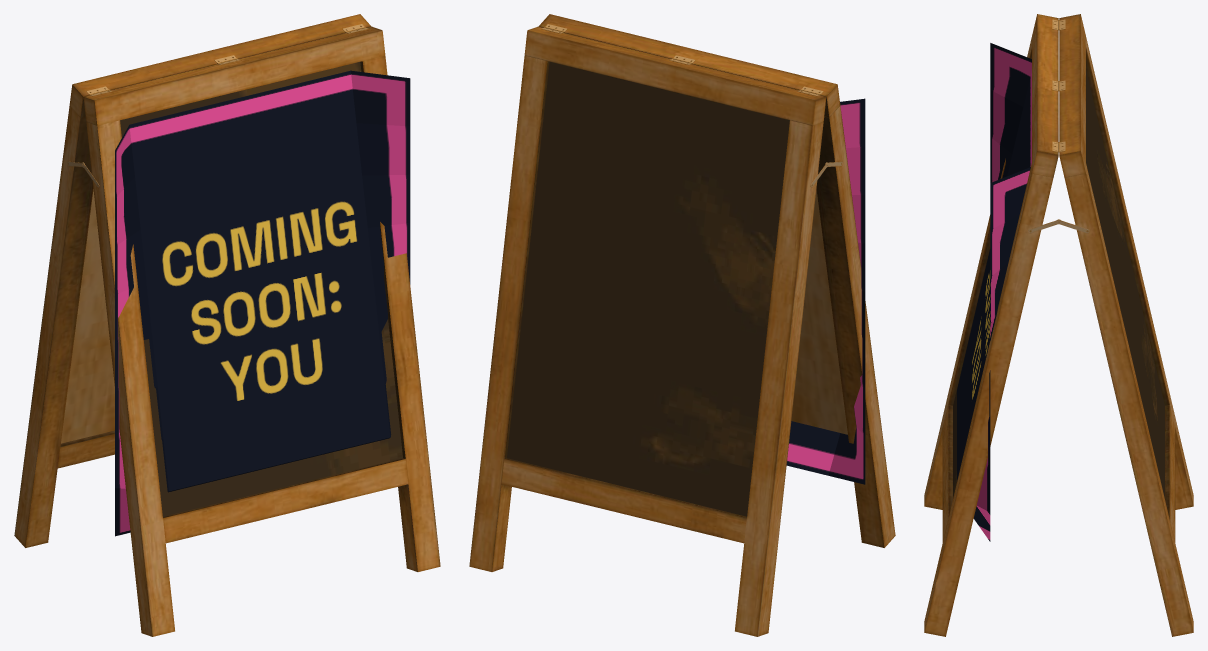
Rendered from nyb_lobby_easel.glb.
3 views of the same model, side by side, from view 1: azimuth 30°, elevation 25°; view 2: azimuth 150°, elevation 25°; view 3: azimuth 270°, elevation 25° (orthographic). The views are drawn at different scales.
Parts seen in each view (by area): view 1: stk_lbl_8014b2c9b5.png, standing_chalkboard_01; view 2: standing_chalkboard_01, stk_lbl_8014b2c9b5.png; view 3: standing_chalkboard_01, stk_lbl_8014b2c9b5.png.
Part boxes in pixels (<box>): stk_lbl_8014b2c9b5.png: <box>115,70,410,536</box>; standing_chalkboard_01: <box>14,14,440,636</box>; standing_chalkboard_01: <box>469,14,895,636</box>; stk_lbl_8014b2c9b5.png: <box>786,98,865,484</box>; standing_chalkboard_01: <box>924,14,1193,636</box>; stk_lbl_8014b2c9b5.png: <box>957,43,1031,541</box>.
Size of the model in its own units: 0.9356 by 1.51 by 0.7587.
Materials: 3 (3 with a texture image).
